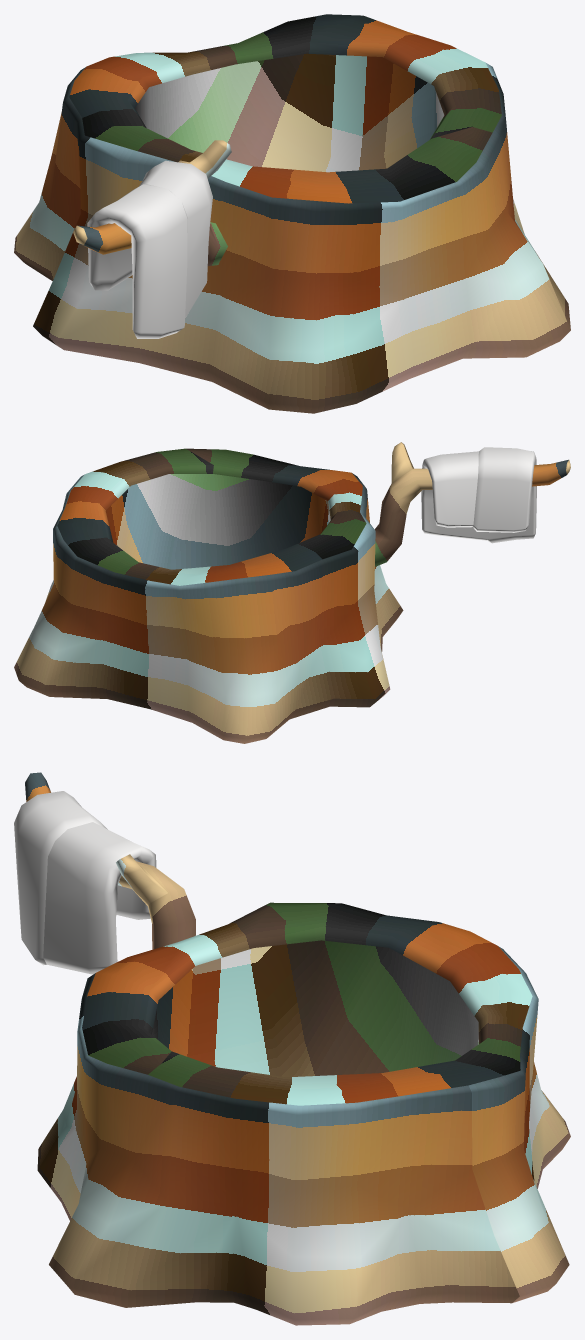
Rendered from P_AP22BathTub.glb.
3 views of the same model, one above another, from view 1: azimuth 30°, elevation 25°; view 2: azimuth 150°, elevation 25°; view 3: azimuth 270°, elevation 25° (orthographic). The views are drawn at different scales.
Parts seen in each view (by area): view 1: P_AP22BathTub; view 2: P_AP22BathTub; view 3: P_AP22BathTub.
Boxes of the visible parts, x1,y1,x2,y2 form: P_AP22BathTub: [14, 14, 570, 413]; P_AP22BathTub: [14, 442, 570, 743]; P_AP22BathTub: [14, 772, 570, 1325].
Size of the model in its own units: 1.83 by 0.7987 by 1.46.
Materials: 1 (1 with a texture image).
